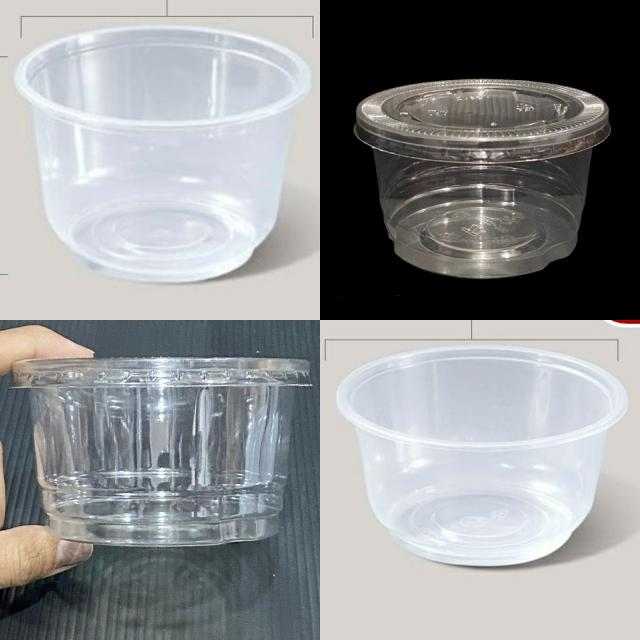Single-Use-Plastic: (15, 26, 311, 282), (336, 345, 628, 566), (14, 358, 311, 546), (355, 79, 610, 278)
